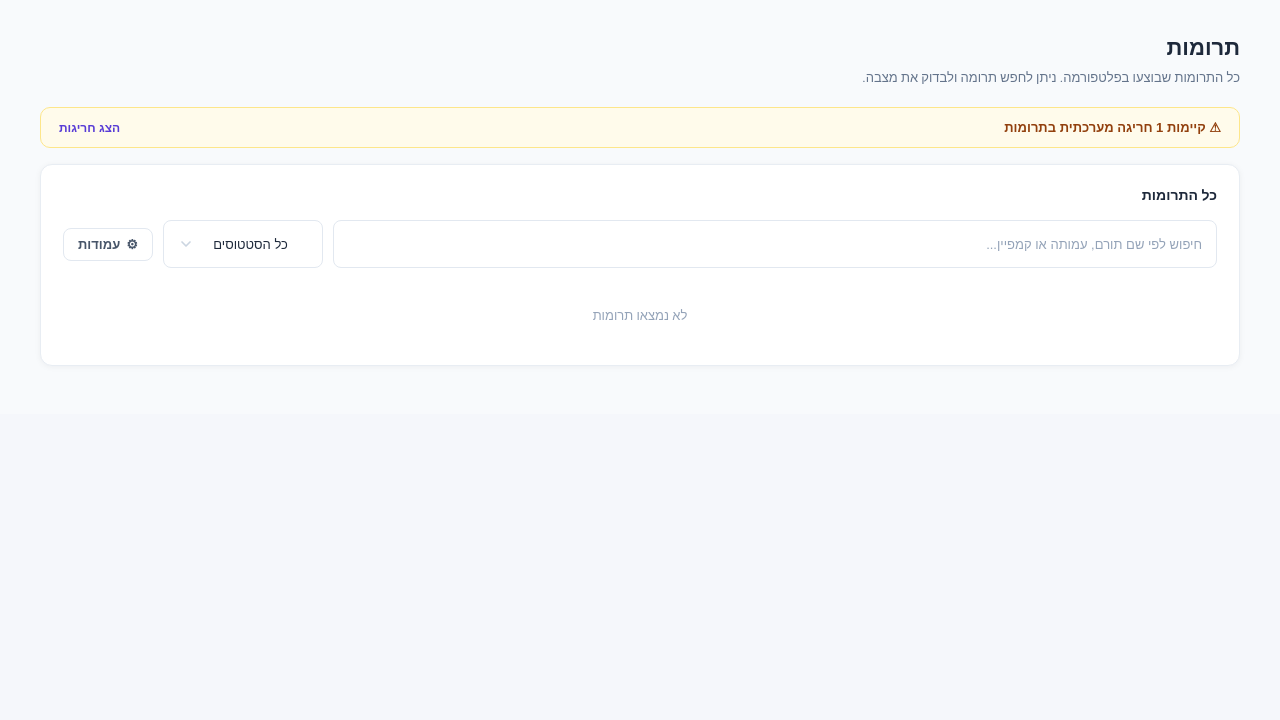
Test: PlatformCardcomOpsPageComponent - anomaly indicator (honest classification) › campaign_aggregate_mismatch is classified "engineering" (not a red needs-review dot) and keeps its "not money at risk" explanation, even though its real severit
Click the button with class "ops-anomaly-bar" at coordinates (1080, 128), box [40,107,1240,148]
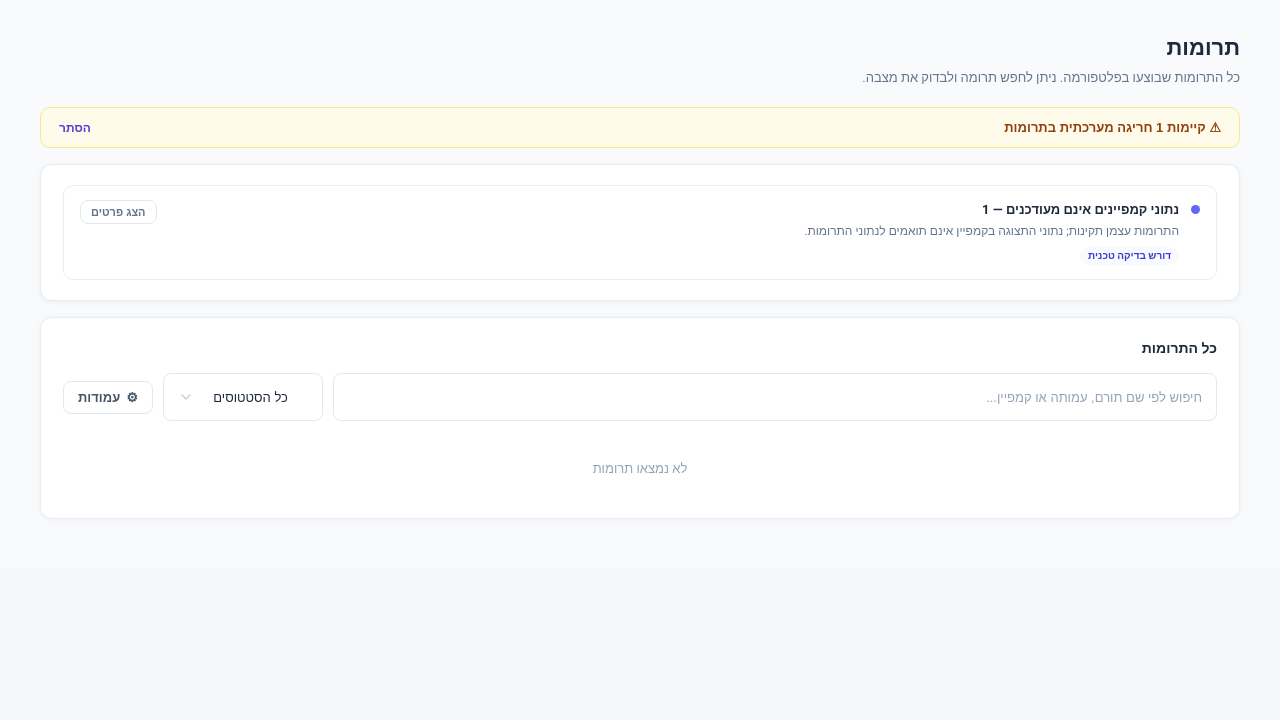
Now the element with class "ops-group-card" shows "התרומות עצמן תקינות", box [804,222,1179,240]
Now the element with class "ops-group-card" shows "דורש בדיקה טכנית", box [1088,249,1171,263]
Click the button "הצג פרטים" at coordinates (118, 212), box [80,200,157,224]
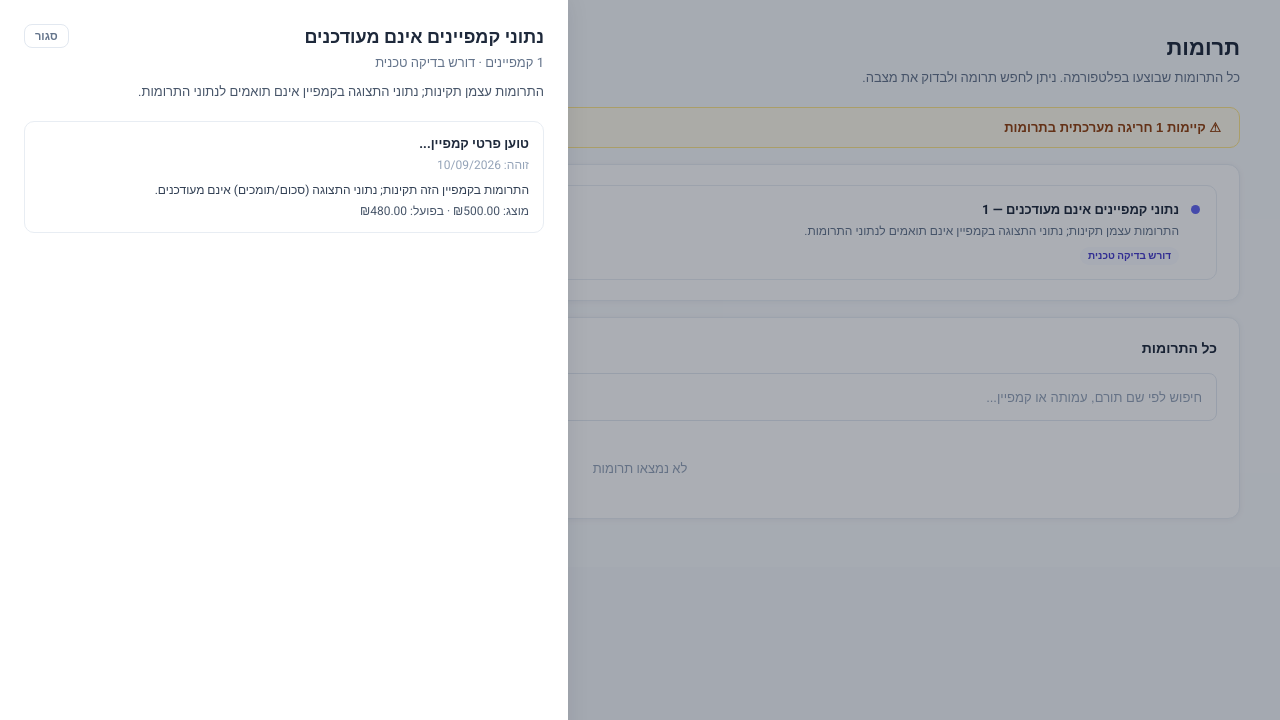
Now the number of elements with class "ops-drawer-item" is 1, box [24,121,544,233]
Now the text "480" is shown, box [360,202,529,220]
